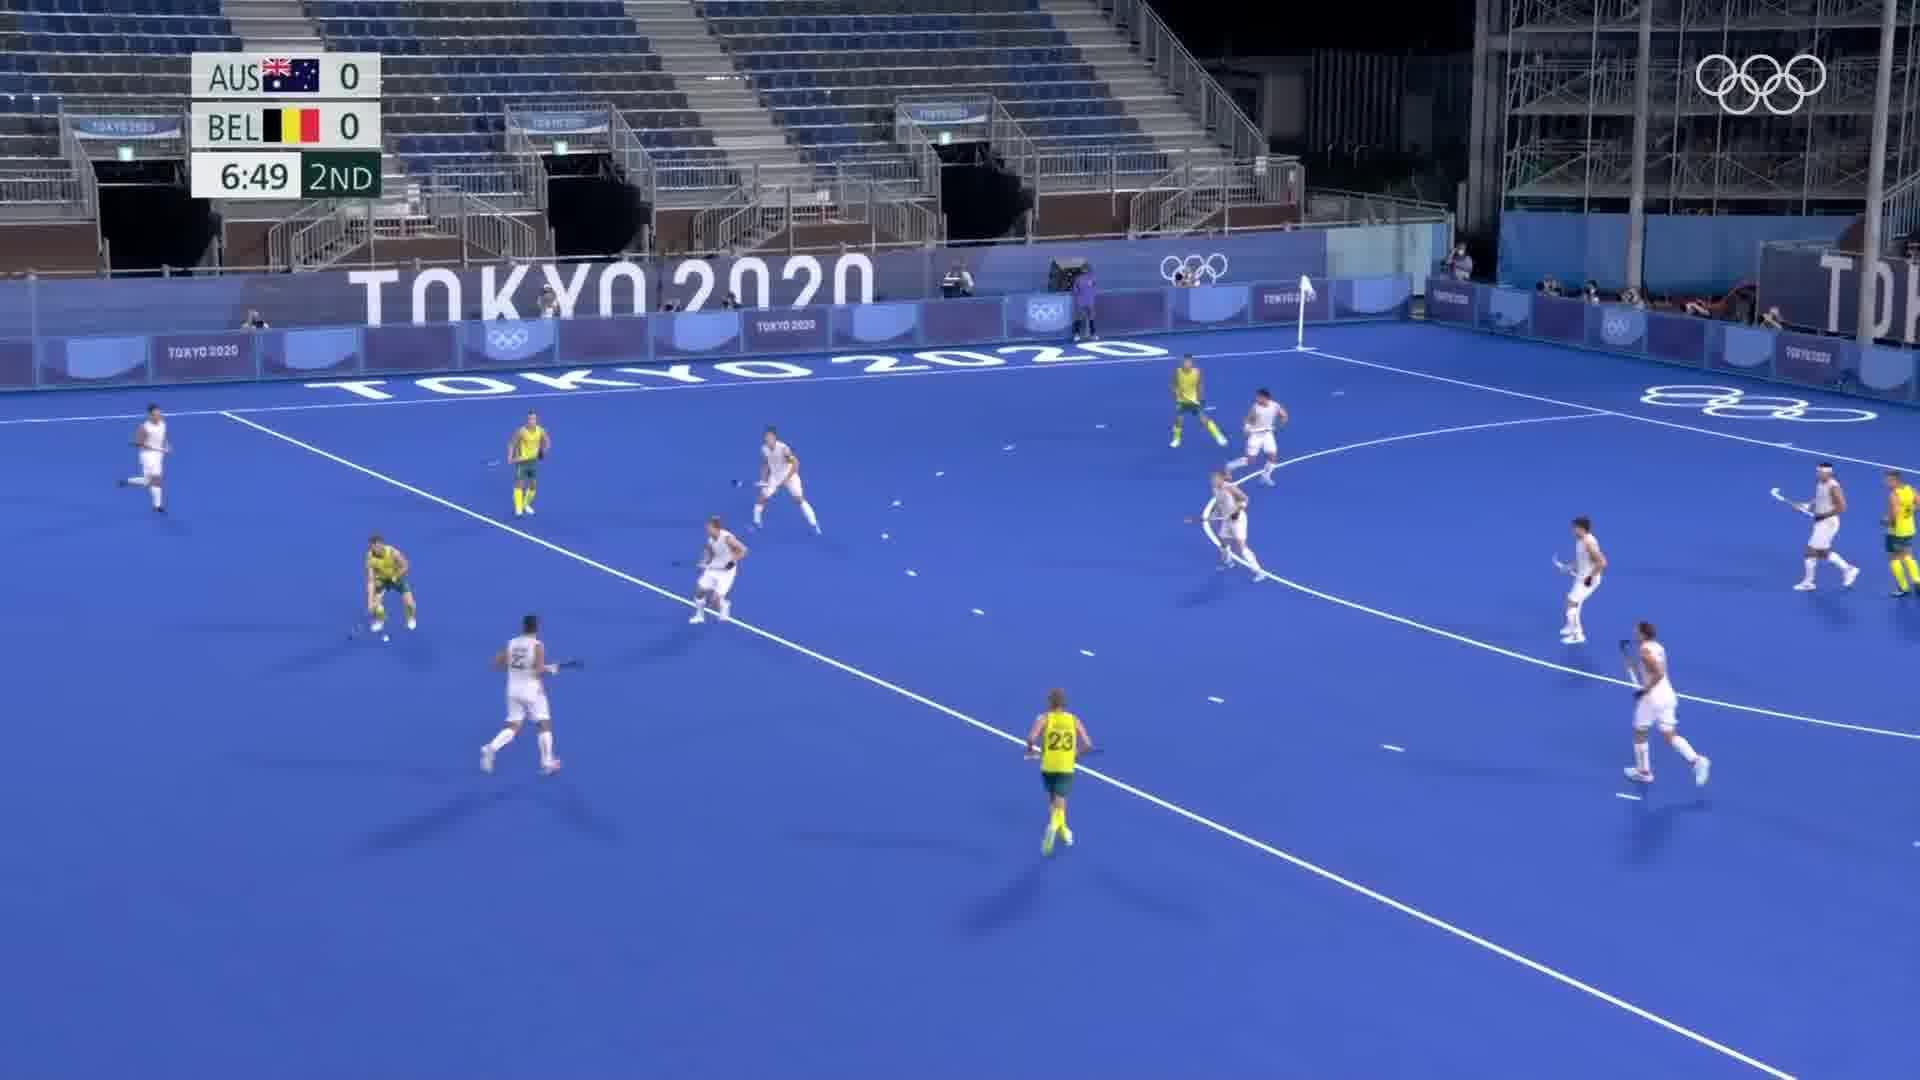ball: (375, 630, 400, 650)
